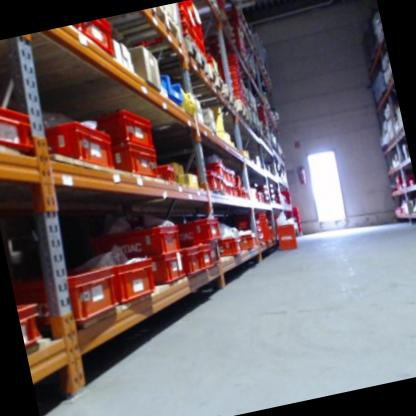pallet: (66, 4, 187, 74), (125, 36, 212, 92), (156, 62, 229, 113), (191, 79, 240, 123), (219, 94, 253, 132)
small_load_carrier: (11, 258, 123, 338), (34, 113, 119, 187), (91, 217, 184, 268), (78, 105, 153, 163), (101, 252, 161, 307), (0, 85, 43, 160), (107, 135, 161, 190), (72, 15, 123, 63), (170, 216, 221, 252), (148, 250, 191, 291), (16, 300, 48, 354), (272, 216, 300, 253), (168, 18, 197, 50), (193, 165, 221, 198), (179, 242, 204, 278), (190, 238, 217, 270), (216, 234, 244, 260), (153, 158, 178, 187), (173, 6, 197, 36), (232, 232, 260, 256), (206, 158, 227, 182), (172, 0, 194, 21), (230, 219, 260, 233), (235, 226, 264, 239), (215, 173, 228, 199), (227, 168, 239, 186), (255, 234, 267, 247), (222, 183, 232, 198), (224, 167, 230, 183)
